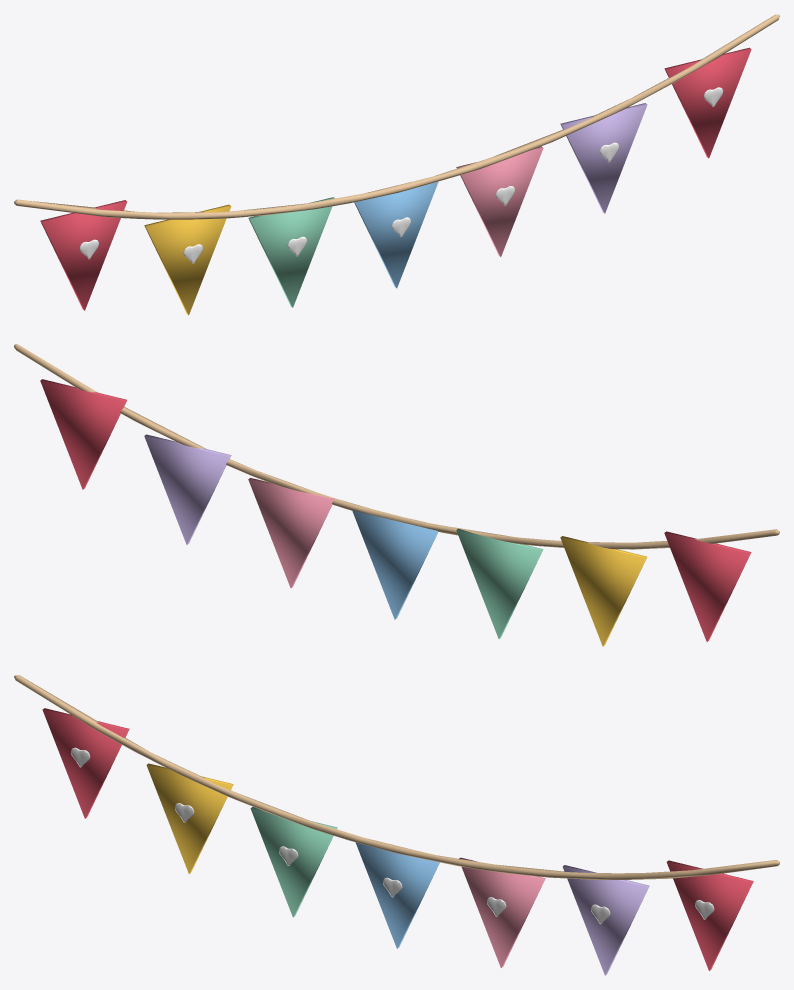
Rendered from deco_banderin.glb.
3 views of the same model, one above another, from view 1: azimuth 30°, elevation 25°; view 2: azimuth 150°, elevation 25°; view 3: azimuth 330°, elevation 25° (orthographic).
Parts seen in each view (by area): view 1: cuerda banderín.001, bandera 0.001, bandera 6.001, bandera 1.001, bandera 5.001, bandera 2.001, bandera 4.001, bandera 3.001; view 2: cuerda banderín.001, bandera 0.001, bandera 6.001, bandera 1.001, bandera 5.001, bandera 2.001, bandera 4.001, bandera 3.001; view 3: cuerda banderín.001, bandera 6.001, bandera 5.001, bandera 0.001, bandera 1.001, bandera 4.001, bandera 2.001, bandera 3.001.
Boxes of the visible parts, box(x1,y1,x2,y2) form: cuerda banderín.001: box(14, 14, 779, 219); bandera 0.001: box(40, 200, 127, 310); bandera 6.001: box(664, 47, 751, 158); bandera 1.001: box(144, 204, 231, 315); bandera 5.001: box(560, 103, 647, 213); bandera 2.001: box(248, 197, 334, 307); bandera 4.001: box(456, 146, 543, 256); bandera 3.001: box(354, 181, 438, 288); cuerda banderín.001: box(14, 344, 779, 549); bandera 0.001: box(664, 531, 751, 641); bandera 6.001: box(40, 379, 126, 489); bandera 1.001: box(560, 536, 646, 646); bandera 5.001: box(144, 434, 231, 544); bandera 2.001: box(456, 528, 543, 638); bandera 4.001: box(248, 478, 335, 588); bandera 3.001: box(352, 510, 438, 619); cuerda banderín.001: box(14, 675, 779, 879); bandera 6.001: box(666, 860, 753, 970); bandera 5.001: box(562, 865, 649, 975); bandera 0.001: box(42, 708, 129, 818); bandera 1.001: box(146, 763, 233, 873); bandera 4.001: box(459, 857, 545, 967); bandera 2.001: box(250, 807, 337, 917); bandera 3.001: box(355, 842, 439, 948).
Bounding box in the file's own units: 0.8095 × 0.1834 × 0.0132.
